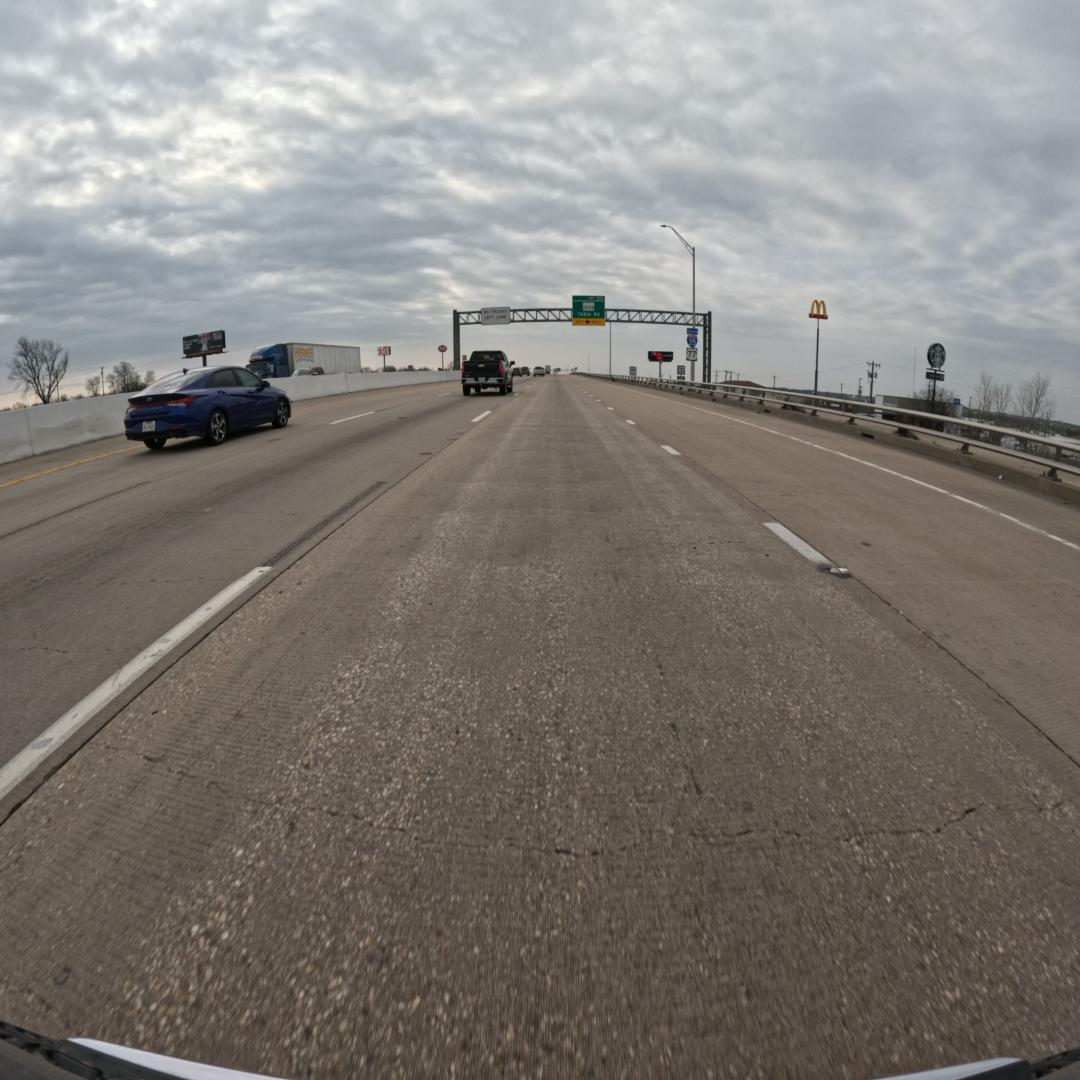lane0: (0, 379, 1080, 1077)
lane1: (0, 392, 514, 821)
